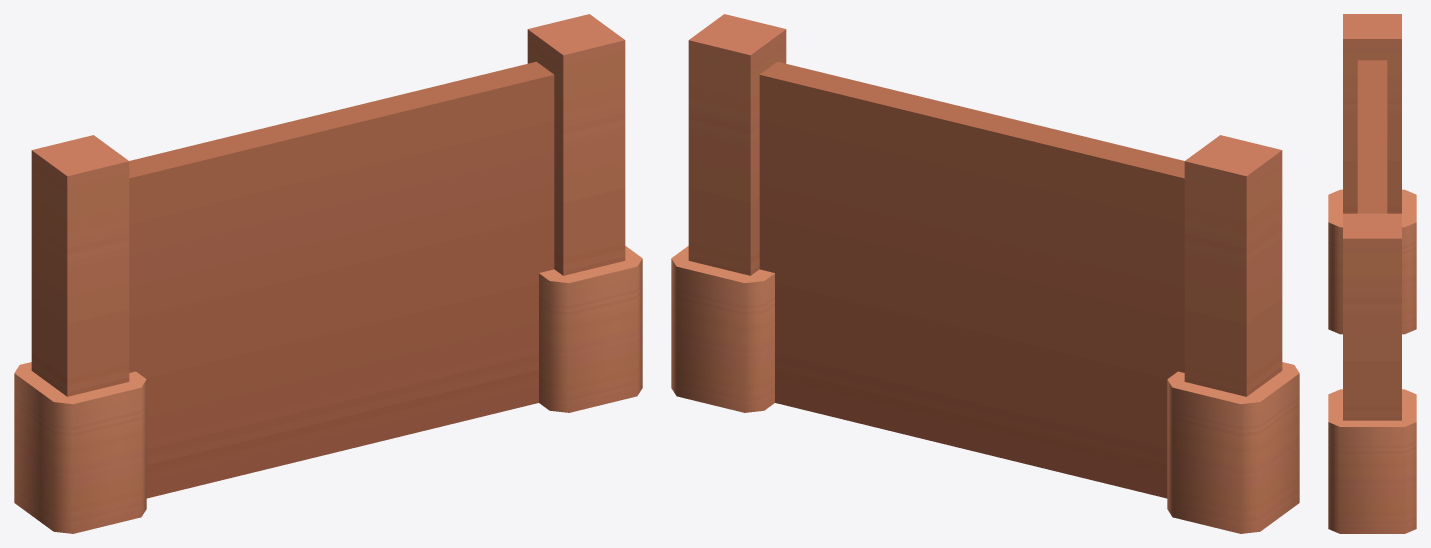
The model's file is fence.glb.
The picture shows the model from 3 angles, left to right: view 1: azimuth 30°, elevation 25°; view 2: azimuth 150°, elevation 25°; view 3: azimuth 270°, elevation 25°; orthographic projection. The views are drawn at different scales.
Parts seen in each view (by area): view 1: fence; view 2: fence; view 3: fence.
Boxes of the visible parts, left/top/right/bottom form: fence: left=14, top=14, right=642, bottom=533; fence: left=671, top=14, right=1299, bottom=533; fence: left=1328, top=14, right=1416, bottom=533.
Size of the model in its own units: 0.475 by 0.27 by 0.075.
Materials: 1 (1 with a texture image).
